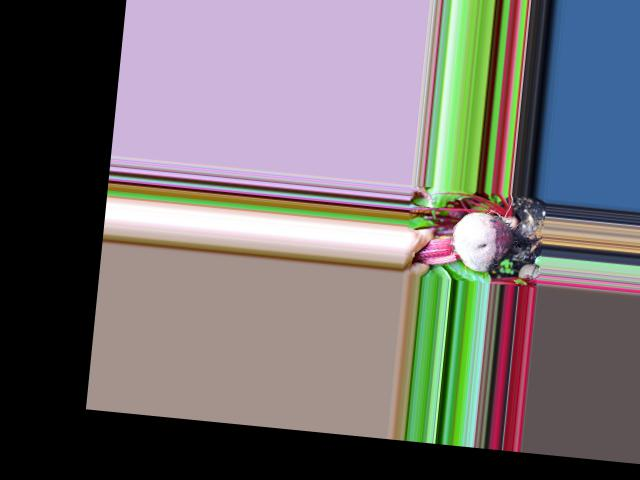beet: (412, 205, 545, 277)
